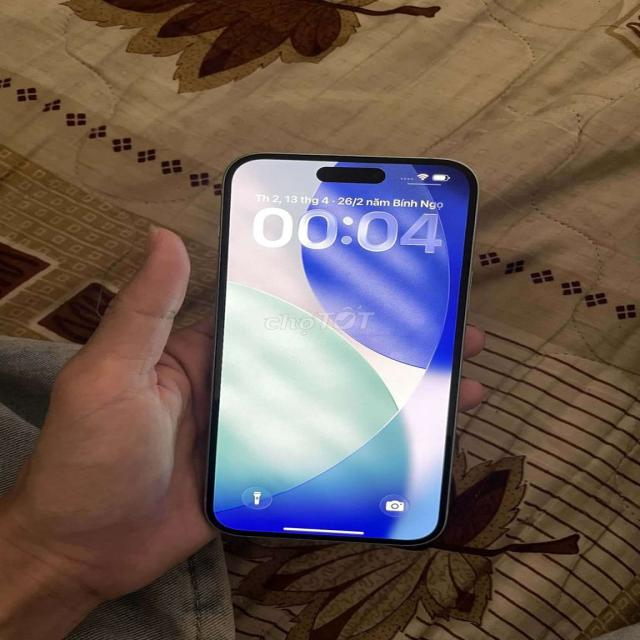gen_15: (173, 136, 498, 560)
